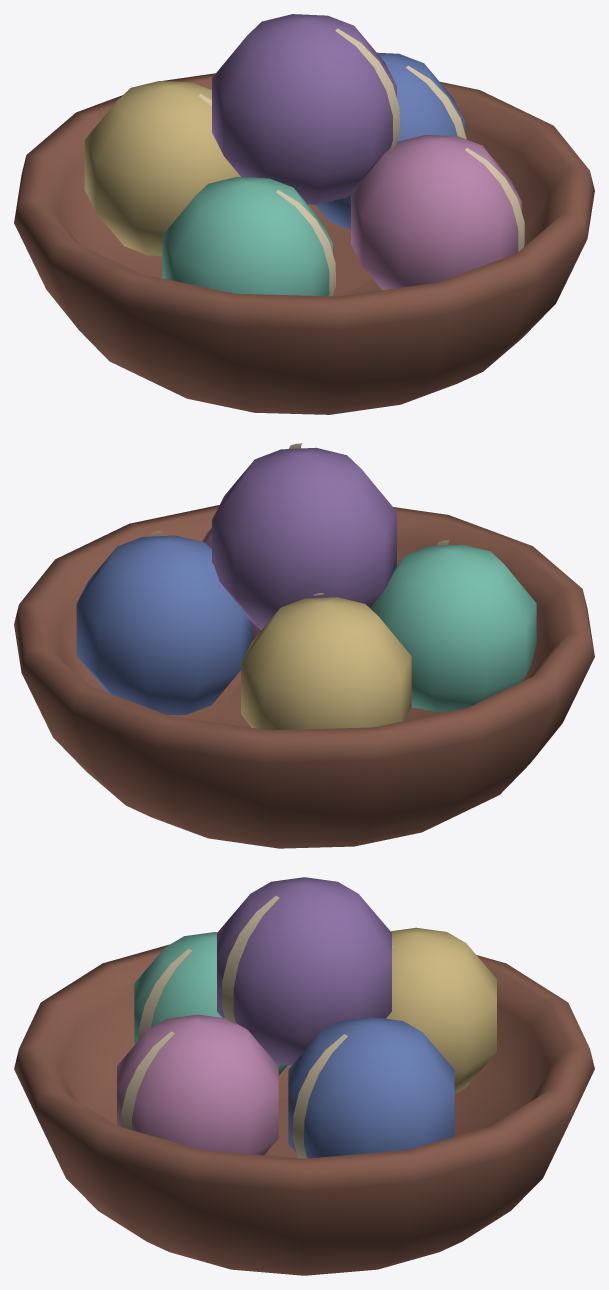
The model's file is marbles.glb.
3 renders of one model, top to bottom at view 1: azimuth 30°, elevation 25°; view 2: azimuth 150°, elevation 25°; view 3: azimuth 270°, elevation 25°, orthographic.
Visible parts, largest first — view 1: marbles; view 2: marbles; view 3: marbles.
Part boxes in pixels (bbox=[...]): marbles: bbox=[14, 14, 594, 414]; marbles: bbox=[14, 443, 594, 848]; marbles: bbox=[14, 877, 594, 1275].
Size of the model in its own units: 0.234 by 0.138 by 0.234.
